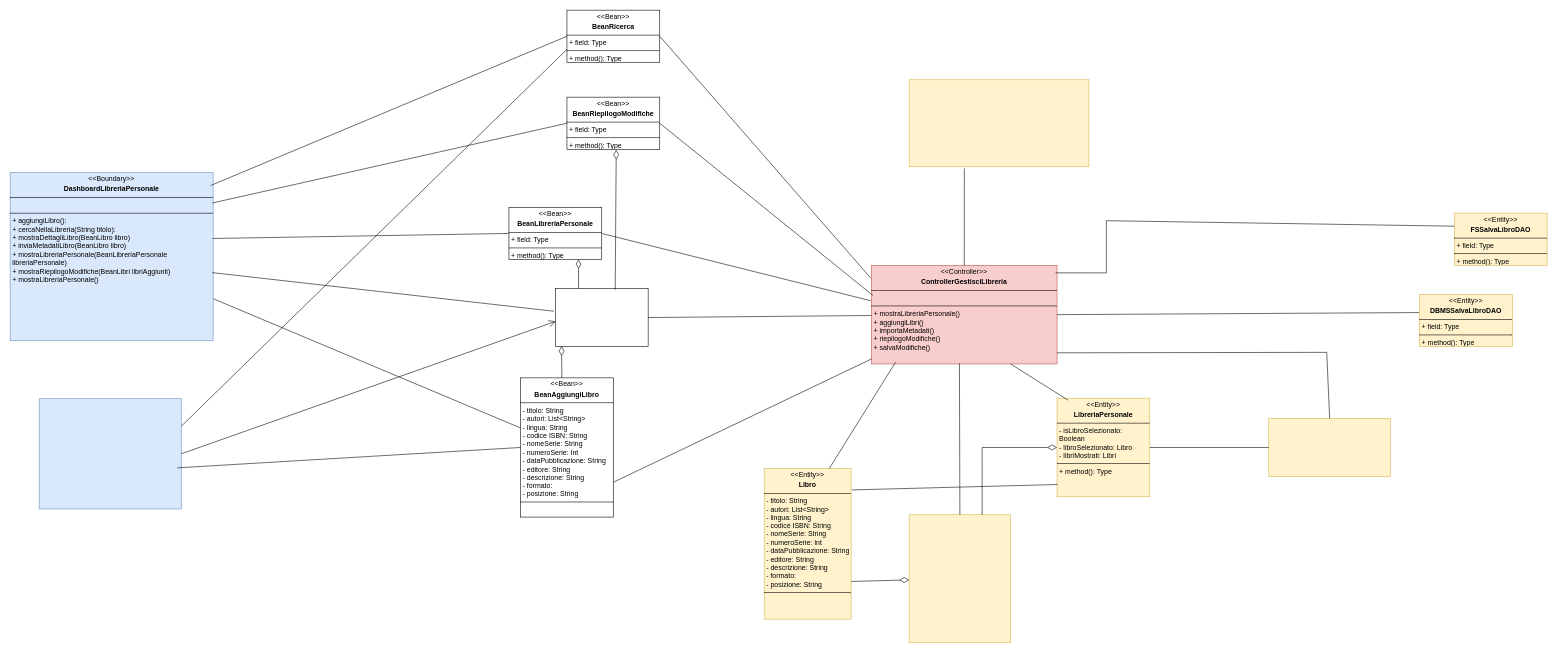
Image size: 1557x653. Some labels were removed from this diagram. Here are the shapes that lost their labels. From the top down, the box of each, then its label:
(909, 79, 1089, 167): <<Entity>> AggiornaLibreriaDAO + aggiornaLibri(Libri nuoviLibru)
(555, 288, 648, 347): <<Bean>> BeanLibri + selezionaLibro(): Type
(39, 398, 181, 509): <<Boundary>> InterfacciaCatalogoLibri + field: Type + method(): Type
(1268, 418, 1391, 476): <<Entity>> CaricaLibreriaPersonaleDAO + field: Type + getLibreriaPersonale()
(909, 514, 1011, 642): <<Entity>> Libri
